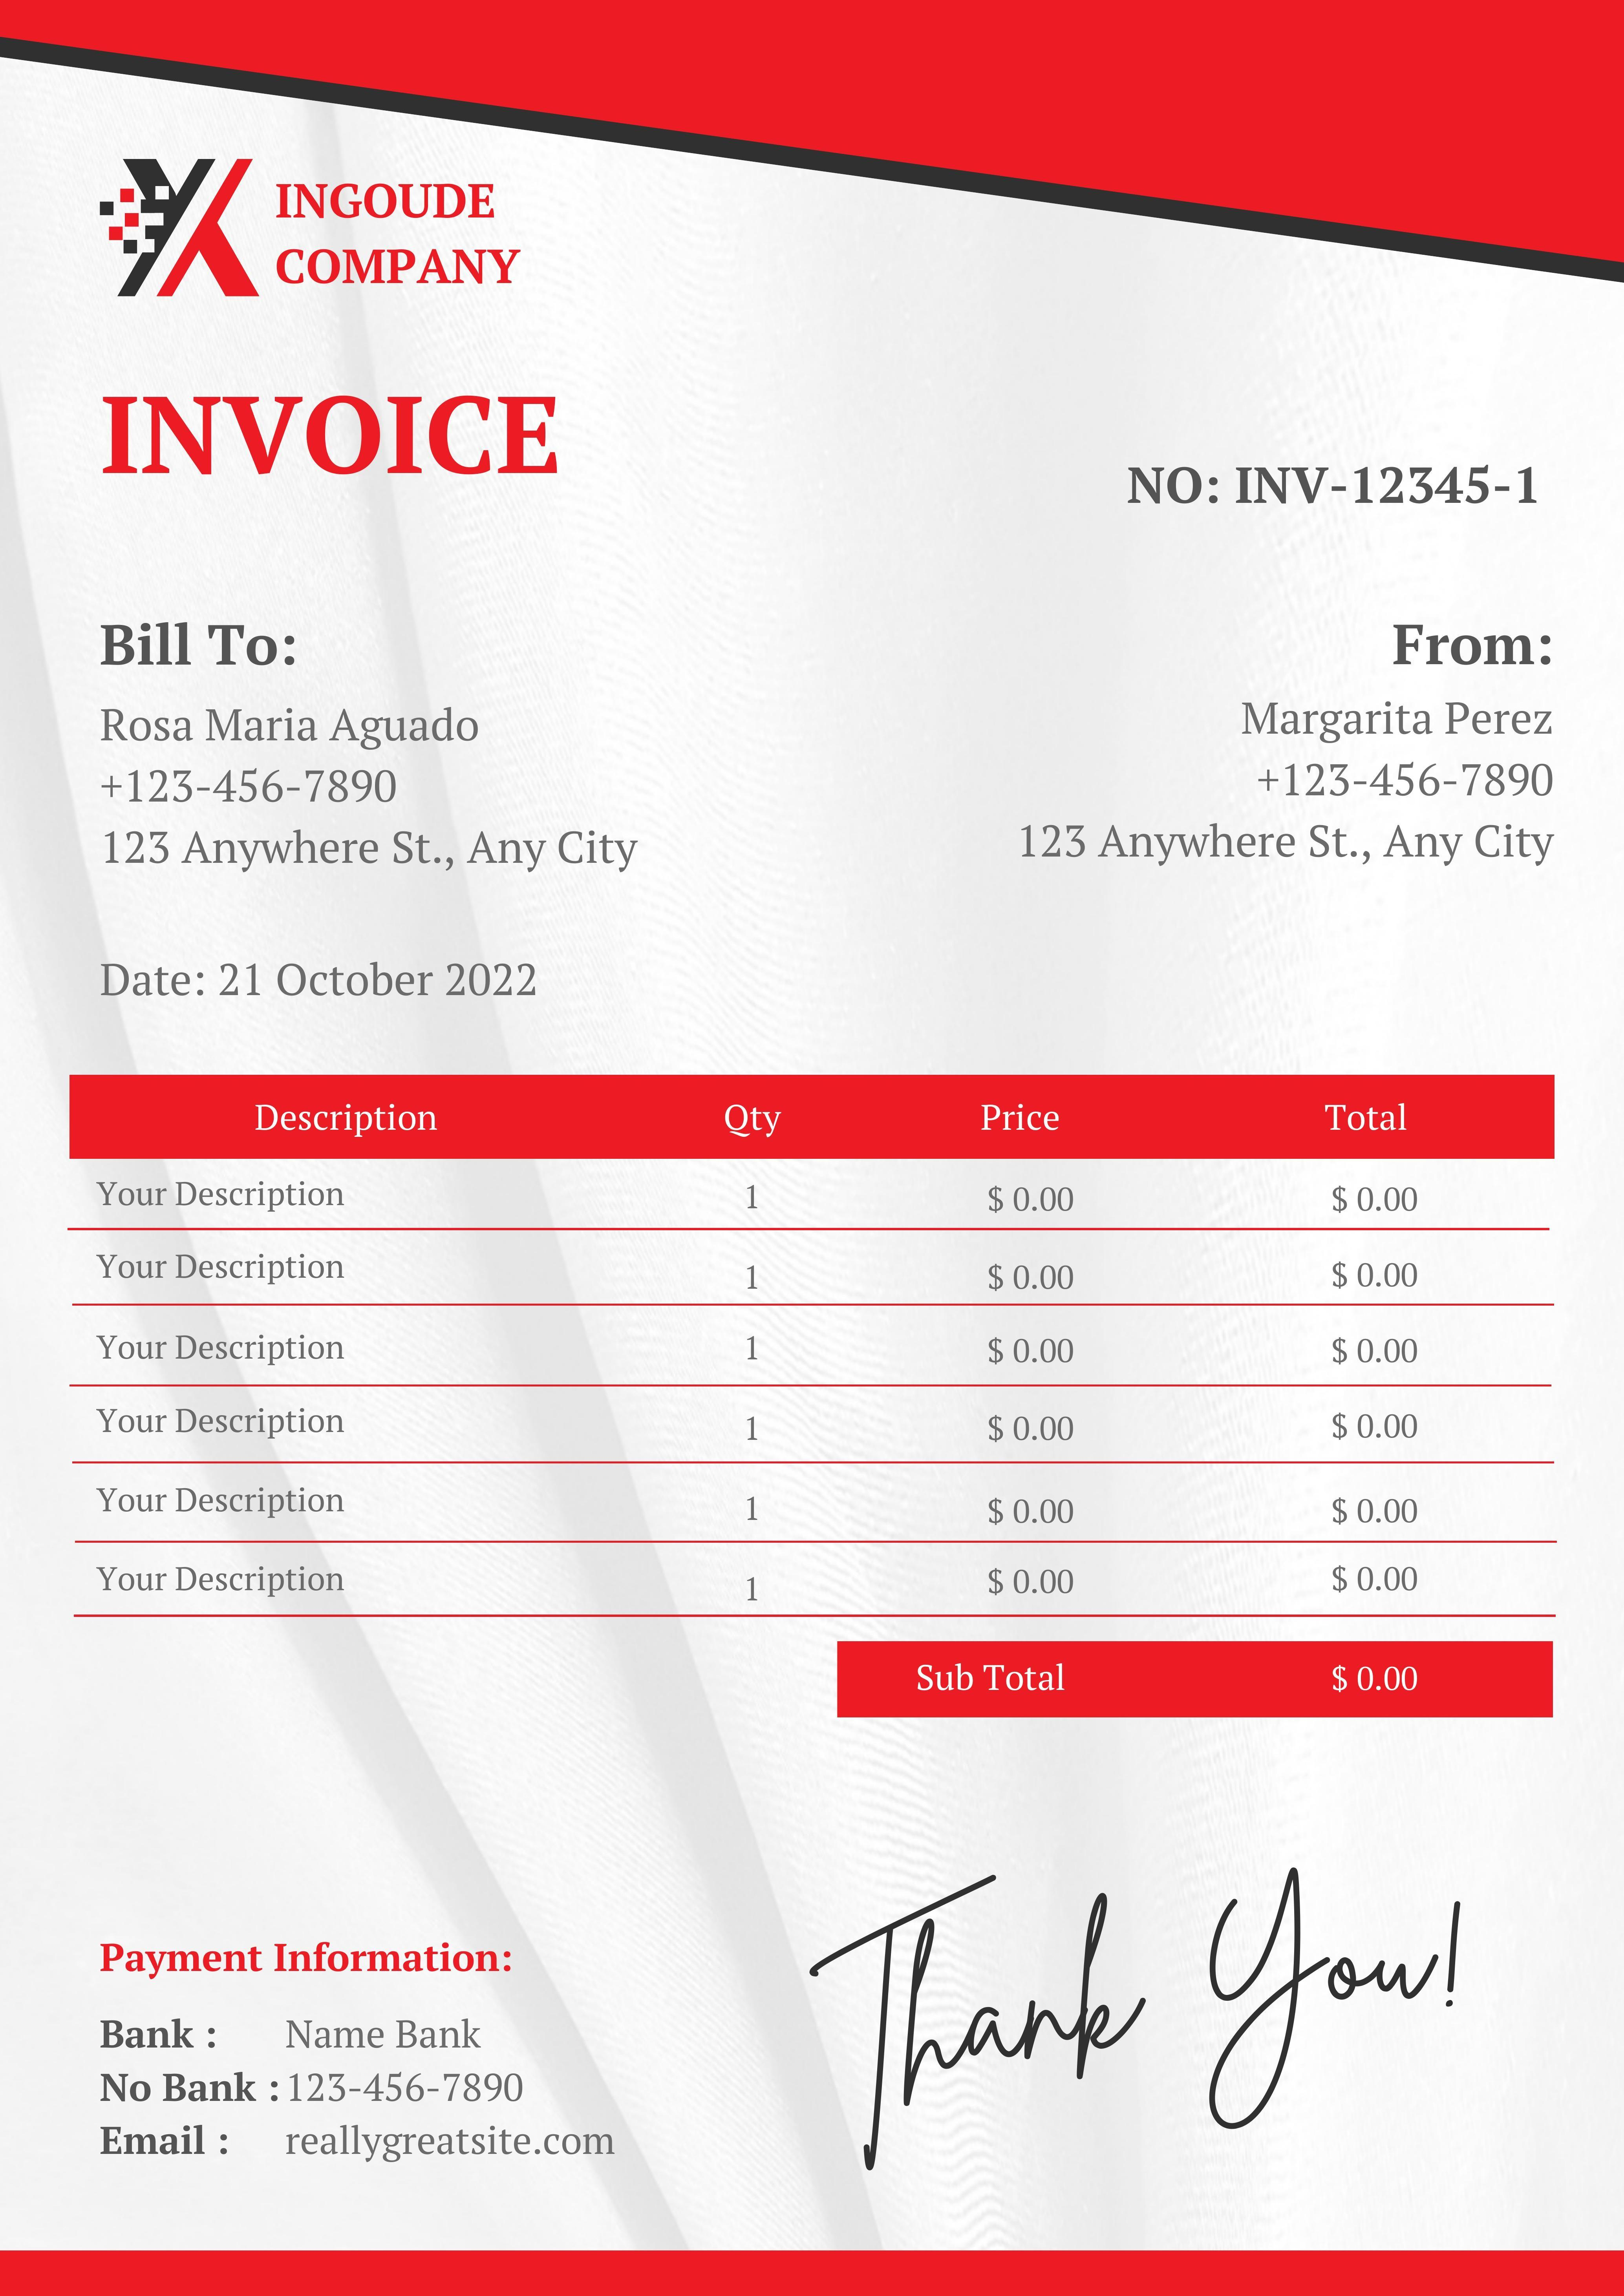ROI: (86, 1077, 1524, 1607), (84, 601, 668, 882), (1002, 620, 1559, 871), (84, 1934, 610, 2184), (72, 139, 529, 316), (837, 1634, 1557, 1725), (1097, 446, 1578, 534)
